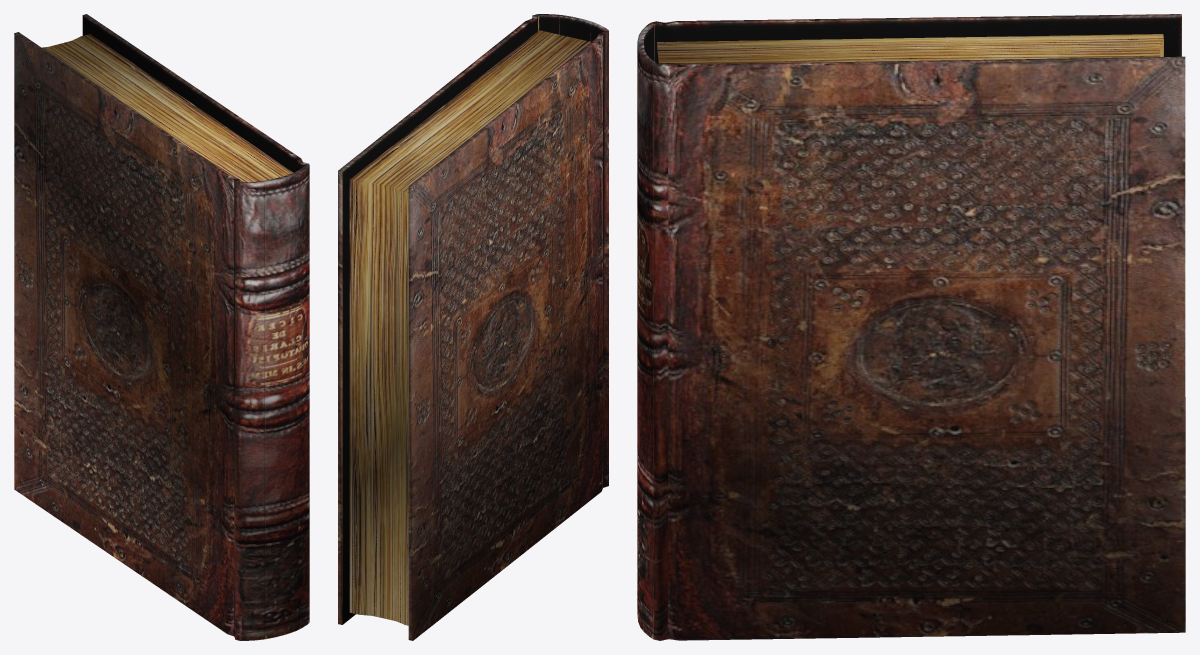
The picture shows the model from 3 angles, left to right: view 1: azimuth 30°, elevation 25°; view 2: azimuth 150°, elevation 25°; view 3: azimuth 270°, elevation 25°; orthographic projection. The views are drawn at different scales.
Size of the model in its own units: 0.0601 by 0.3 by 0.2599.
1 material, 1 textured.
